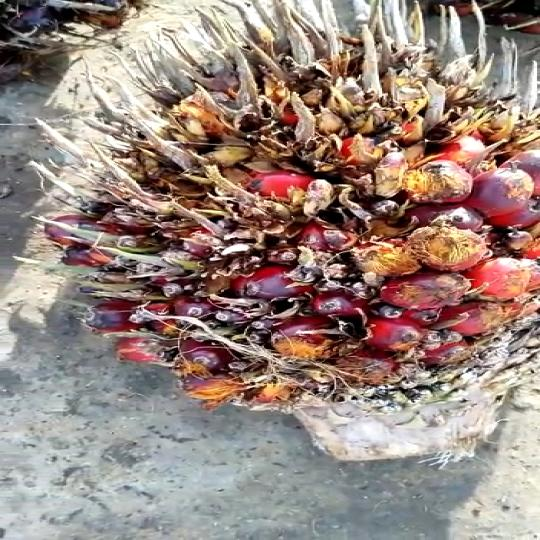terlalu masak: (38, 0, 540, 484)
